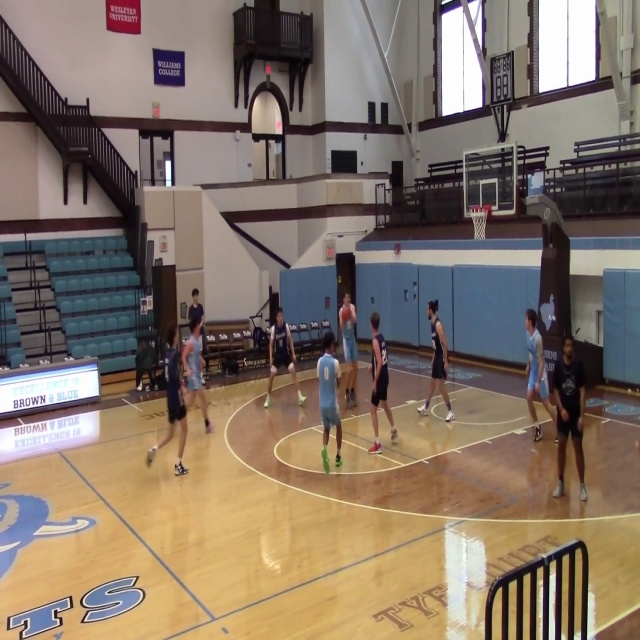Basketball: (560, 409, 569, 422)
